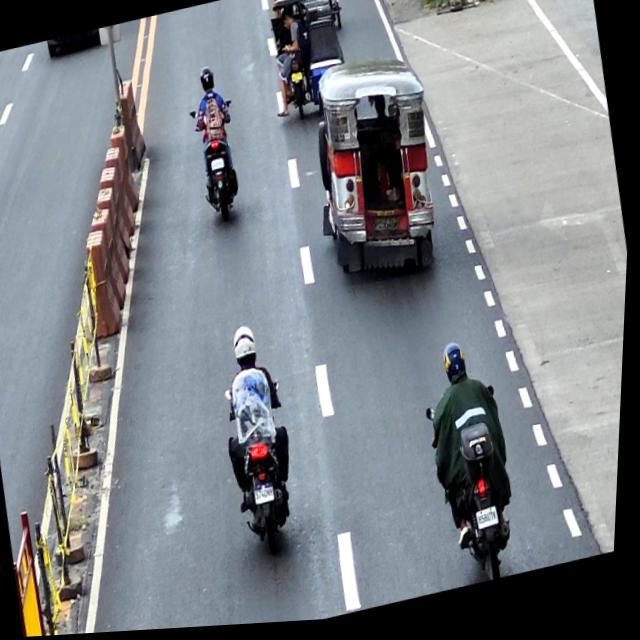Jeep: (297, 47, 457, 297)
License-Plate: (374, 217, 403, 241), (481, 512, 504, 535), (256, 486, 280, 508), (211, 159, 227, 173), (291, 74, 304, 86)
Motorcycle: (421, 387, 531, 597), (221, 377, 312, 569), (186, 101, 253, 230)
Tricycle: (267, 0, 356, 123), (274, 0, 346, 44)
